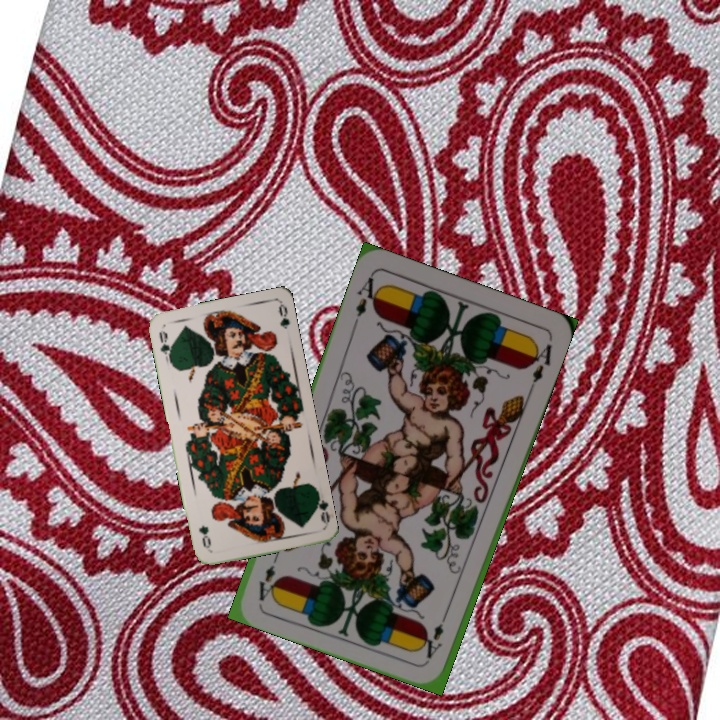EA: (351, 271, 384, 320), (422, 607, 451, 662)
GO: (310, 487, 332, 526), (155, 327, 175, 366)
